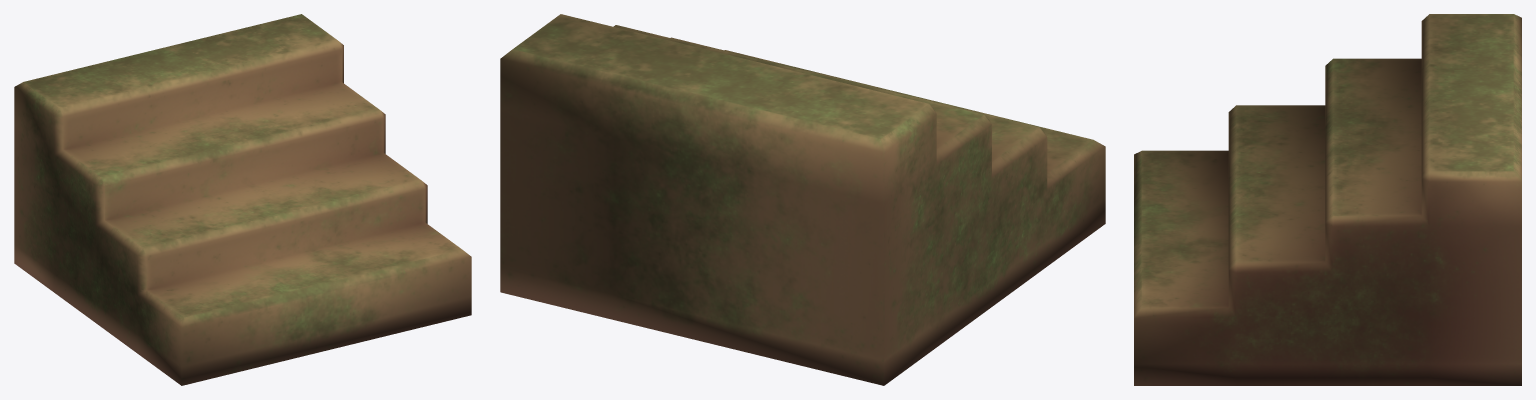
The model's file is Ground06.fbx.
3 renders of one model, left to right at view 1: azimuth 30°, elevation 25°; view 2: azimuth 150°, elevation 25°; view 3: azimuth 270°, elevation 25°, orthographic. The views are drawn at different scales.
Parts seen in each view (by area): view 1: Cube.125; view 2: Cube.125; view 3: Cube.125.
Boxes of the visible parts, left/top/right/bottom form: Cube.125: left=14, top=14, right=471, bottom=385; Cube.125: left=500, top=14, right=1105, bottom=385; Cube.125: left=1134, top=14, right=1521, bottom=385.
Bounding box in the file's own units: 4 × 2.41 × 4.
